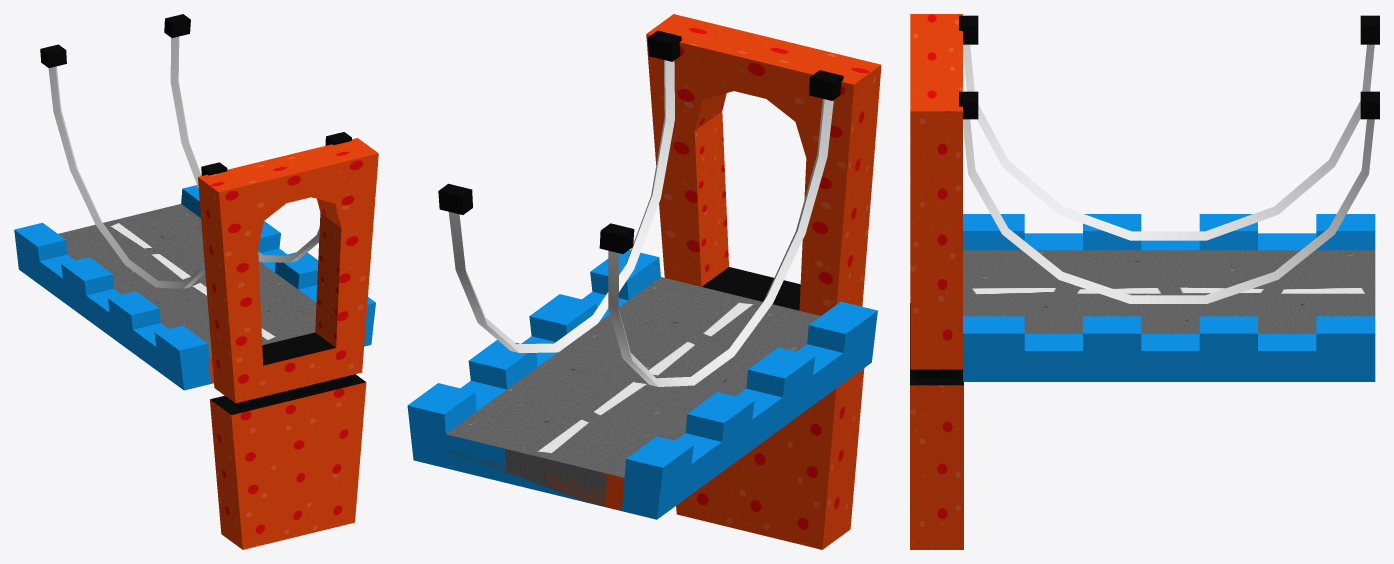
Rendered from Bridge.fbx.
3 renders of one model, left to right at view 1: azimuth 30°, elevation 25°; view 2: azimuth 150°, elevation 25°; view 3: azimuth 270°, elevation 25°, orthographic. The views are drawn at different scales.
Parts seen in each view (by area): view 1: polySurface26; view 2: polySurface26; view 3: polySurface26.
Boxes of the visible parts, x1,y1,x2,y2 form: polySurface26: (14, 14, 378, 549); polySurface26: (407, 14, 881, 549); polySurface26: (910, 14, 1379, 549).
Size of the model in its own units: 42.63 by 75.99 by 70.73.
